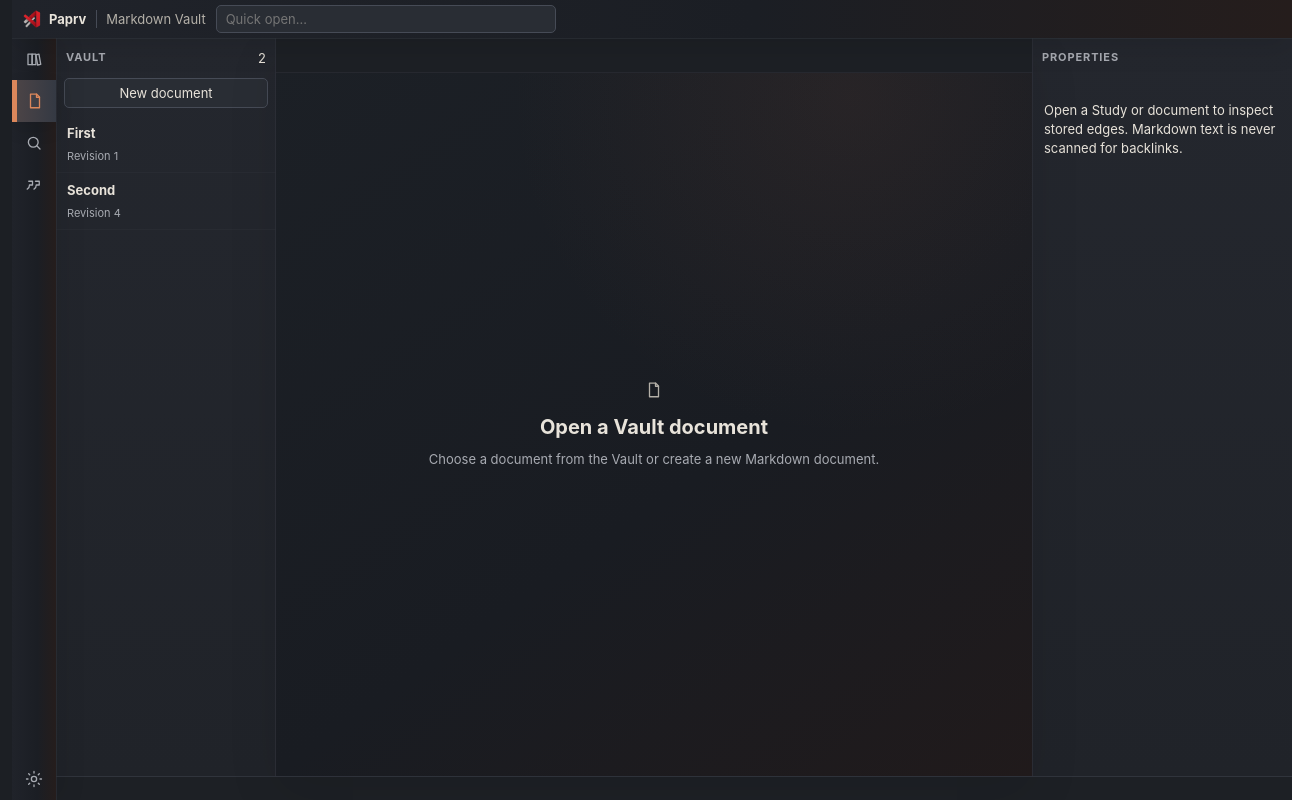
independent Vault and Study workspace › keeps mixed Study/document tabs open and switches activities with shortcuts
Expected: the button named "Vault" is shown, [12, 80, 56, 122]
Expected: the element named "Vault Explorer" is shown, [56, 38, 276, 776]
Click the option "First Revision 1". click: (166, 144)
box: [56, 116, 276, 173]
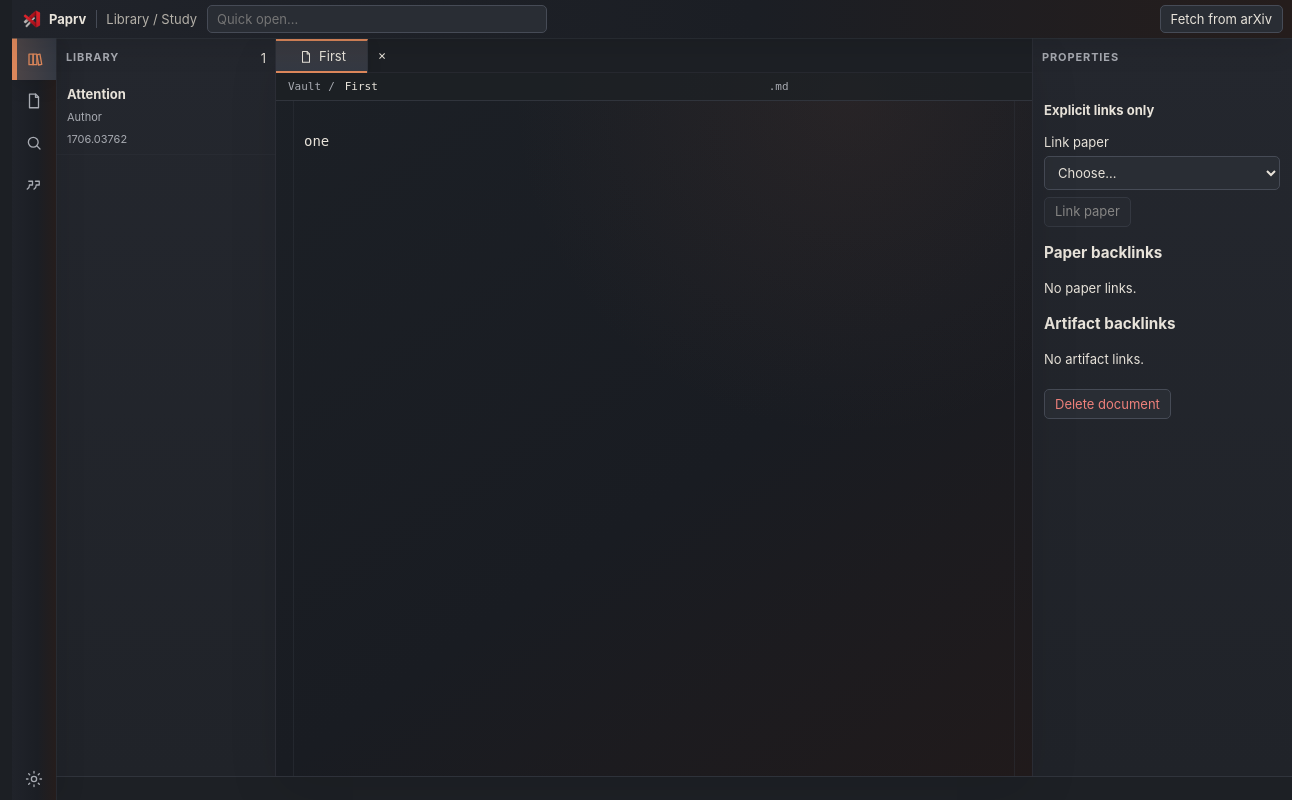
Result: the text box named "Markdown document editor" is shown at [276, 101, 1032, 776]
Result: the option "Attention Author 1706.03762" is shown
Click the option "Attention Author 1706.03762". click: (166, 116)
box: [56, 78, 276, 155]
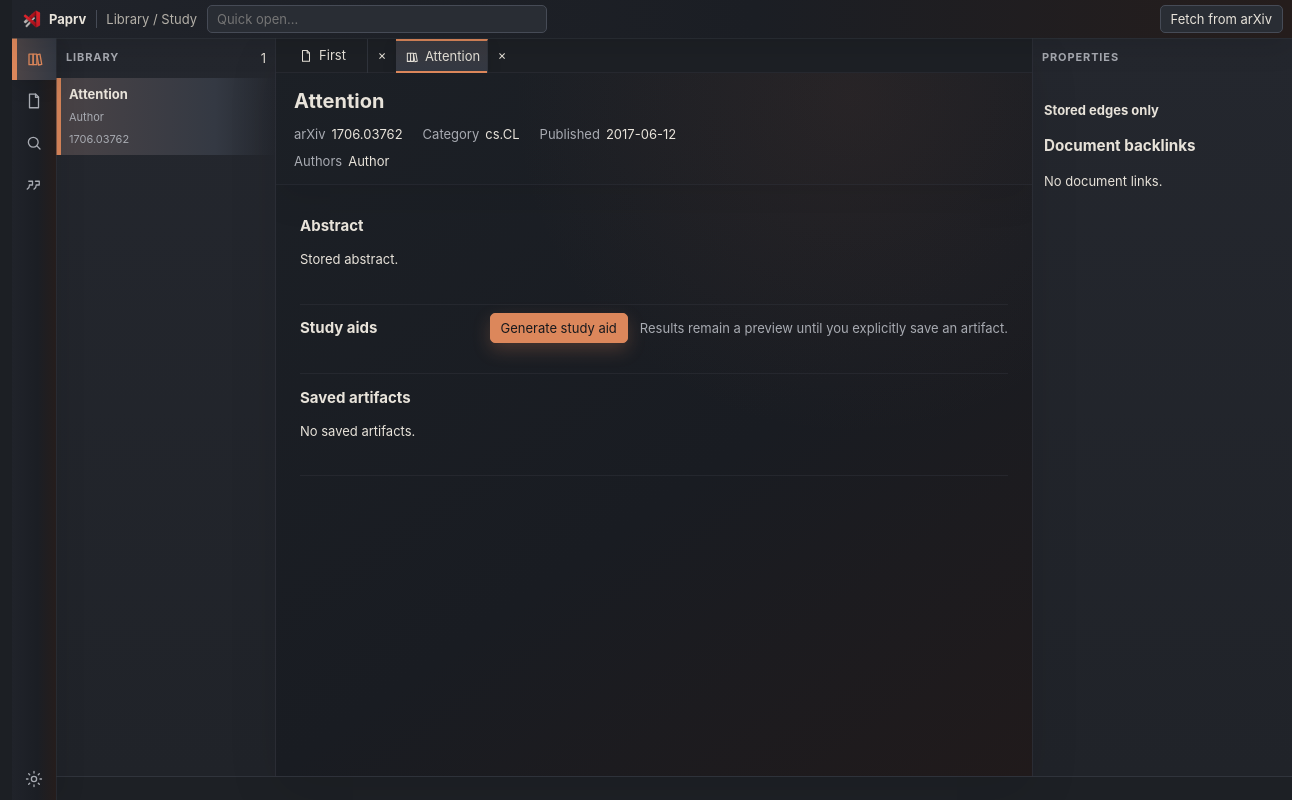
Result: the number of tabs is 2 at [276, 38, 368, 72]; [396, 38, 488, 72]
Result: the text "Stored abstract." is shown at [300, 251, 398, 267]
Result: the text "Generate study aid" is shown at [490, 313, 628, 343]
